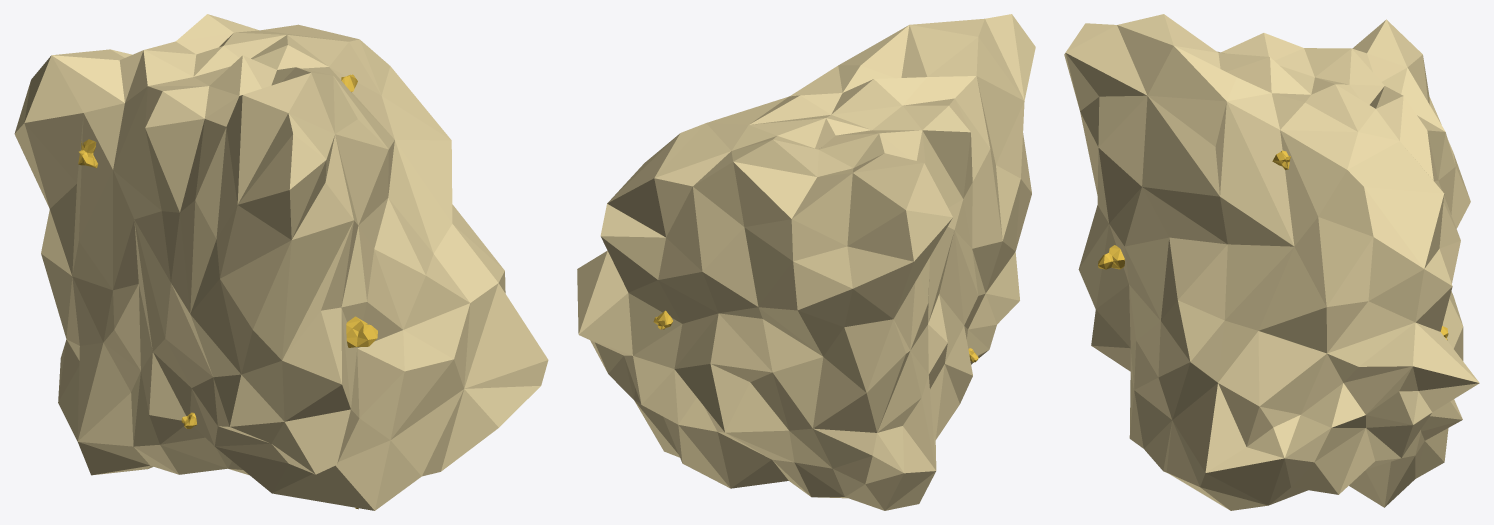
Rendered from MetalOre (44).fbx.
The picture shows the model from 3 angles, left to right: view 1: azimuth 30°, elevation 25°; view 2: azimuth 150°, elevation 25°; view 3: azimuth 270°, elevation 25°; orthographic projection. The views are drawn at different scales.
Visible parts, largest first — view 1: Asteroid399; view 2: Asteroid399; view 3: Asteroid399.
Boxes of the visible parts, x1=… form: Asteroid399: x1=14, y1=14, x2=548, y2=510; Asteroid399: x1=577, y1=14, x2=1035, y2=510; Asteroid399: x1=1064, y1=14, x2=1479, y2=510.
Bounding box in the file's own units: 632 × 642 × 602.
